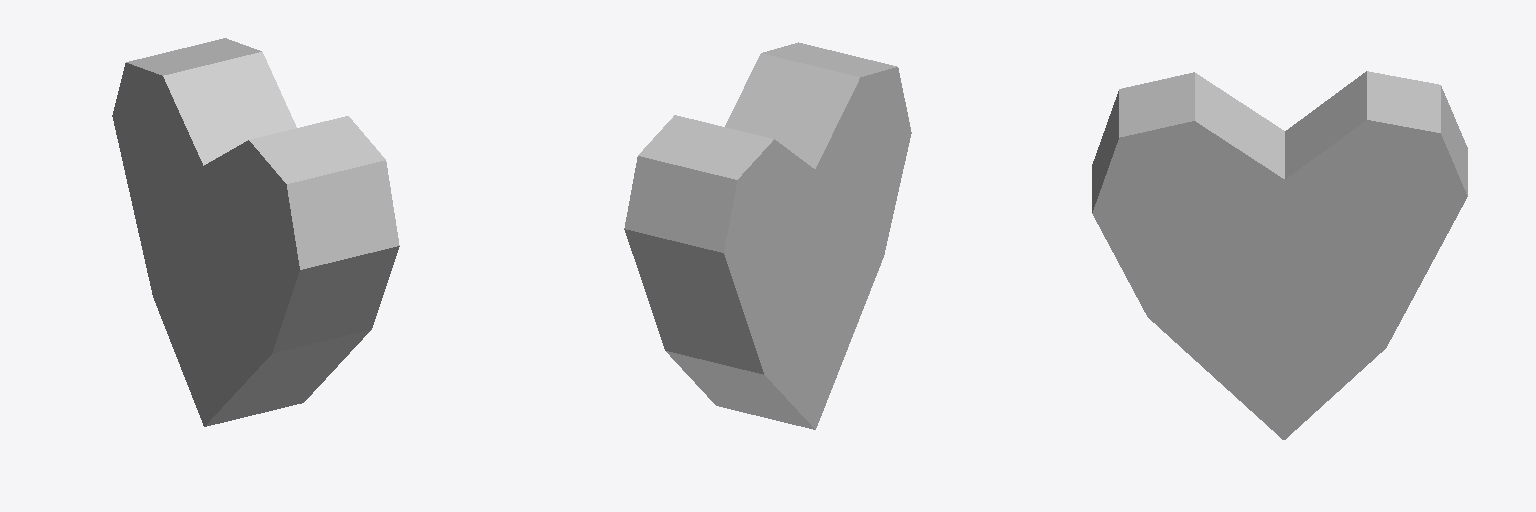
File: Heart.obj
3 renders of one model, left to right at view 1: azimuth 30°, elevation 25°; view 2: azimuth 150°, elevation 25°; view 3: azimuth 270°, elevation 25°, orthographic.
Bounding box in the file's own units: 5.96 × 18.36 × 19.46.